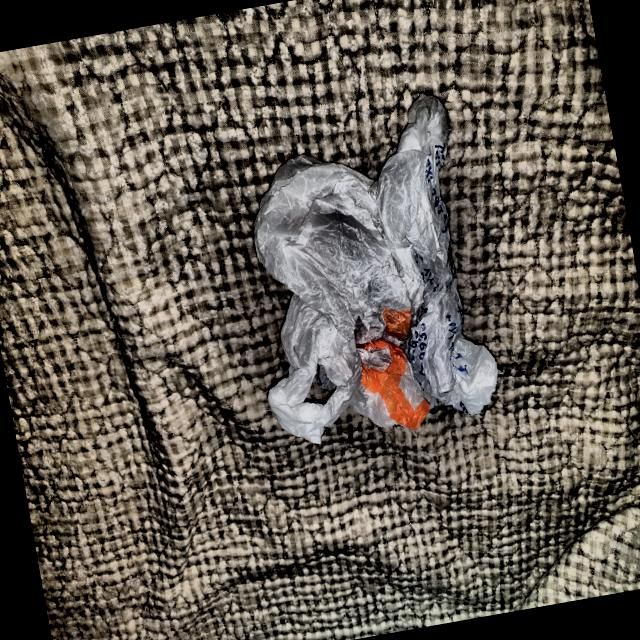plastic bag: (212, 85, 511, 460)
